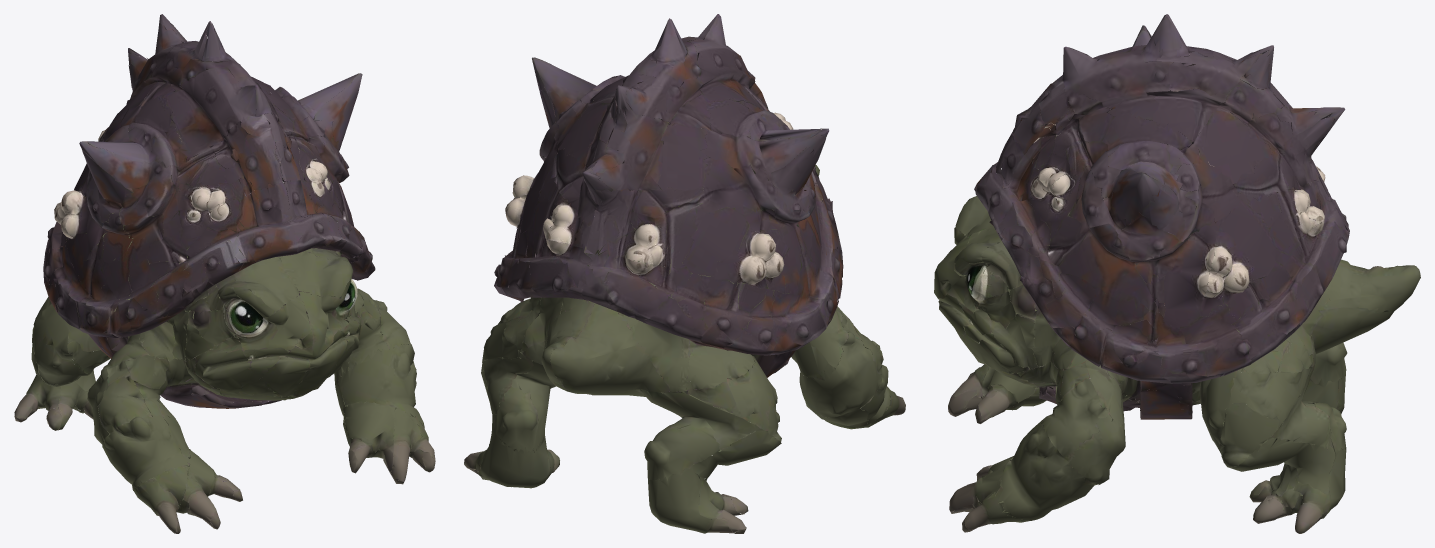
The picture shows the model from 3 angles, left to right: view 1: azimuth 30°, elevation 25°; view 2: azimuth 150°, elevation 25°; view 3: azimuth 270°, elevation 25°; orthographic projection. The views are drawn at different scales.
Visible parts, largest first — view 1: Mesh_0; view 2: Mesh_0; view 3: Mesh_0.
Boxes of the visible parts, bbox=[...] form: Mesh_0: bbox=[14, 14, 435, 533]; Mesh_0: bbox=[464, 14, 905, 533]; Mesh_0: bbox=[934, 14, 1420, 533].
Bounding box in the file's own units: 1.49 × 1.91 × 1.86.
1 material, 1 textured.
